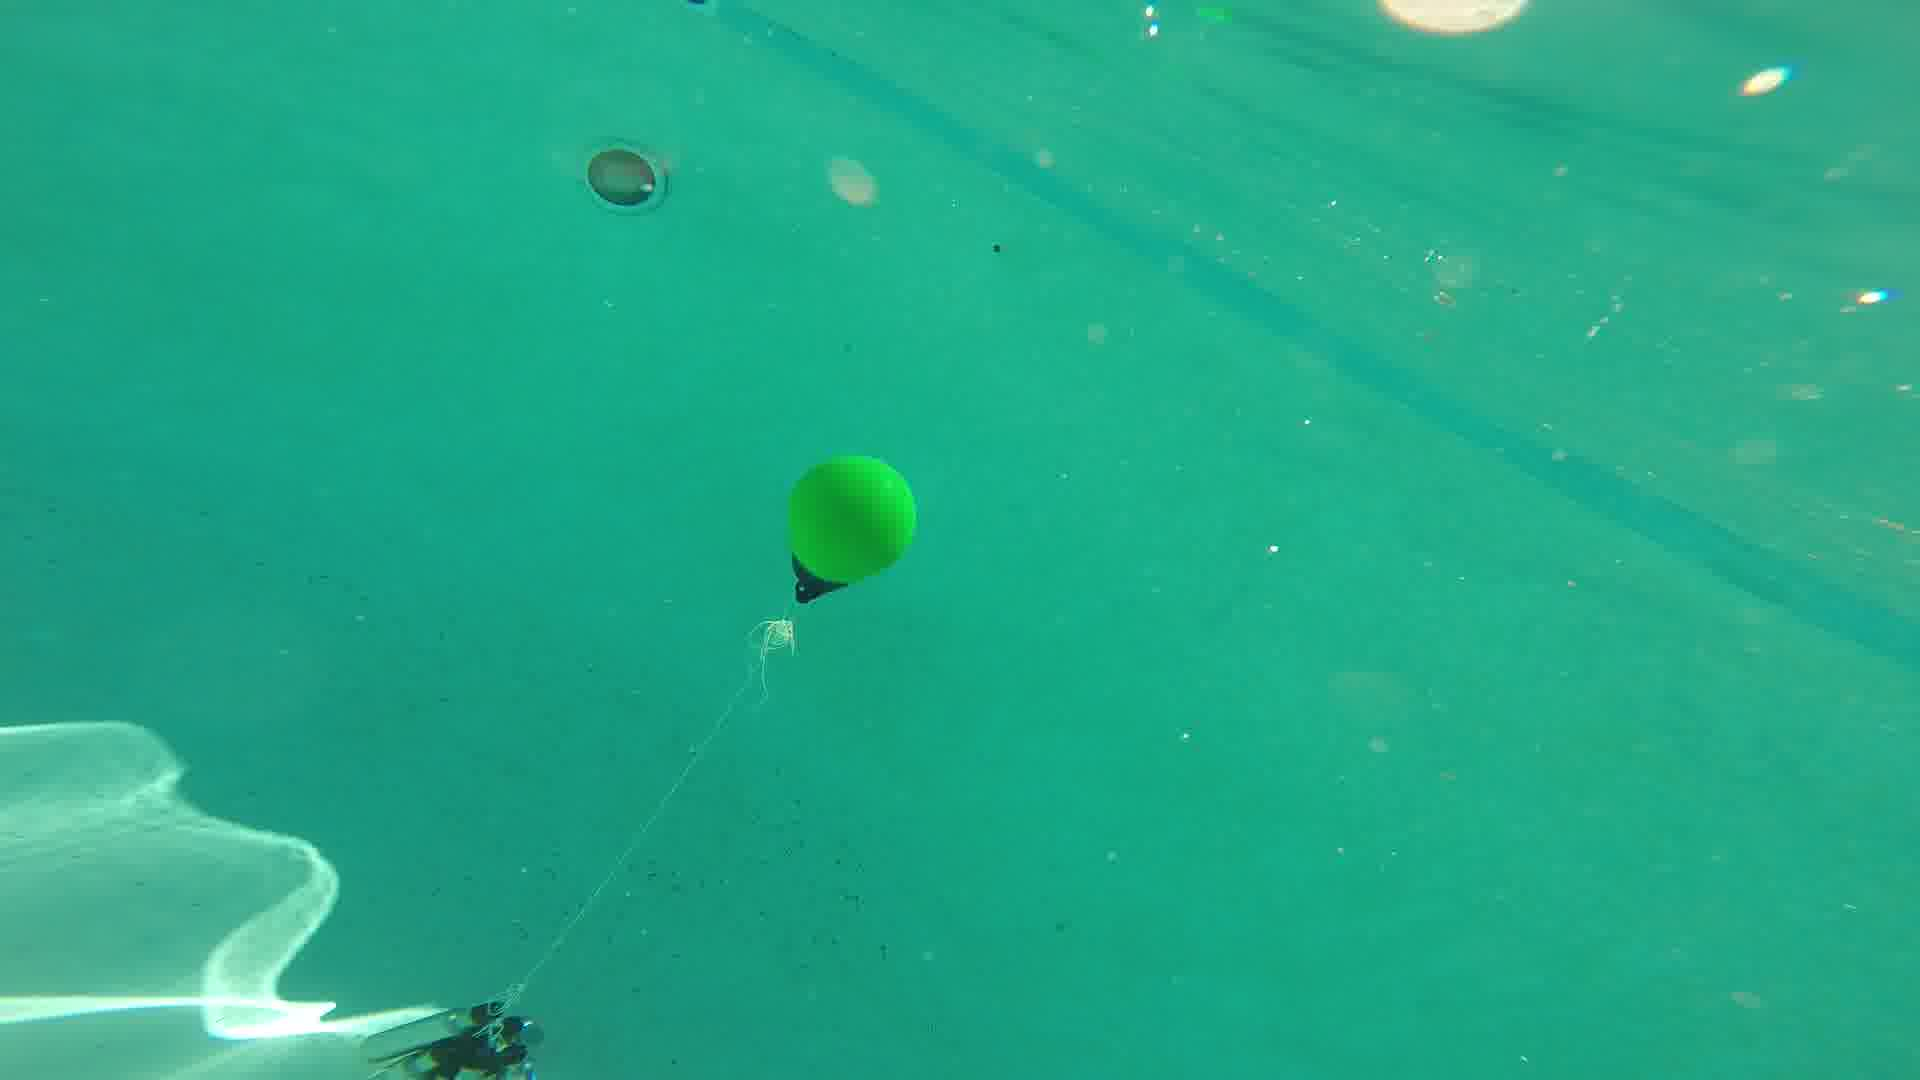yellow_buoy: (786, 456, 920, 605)
